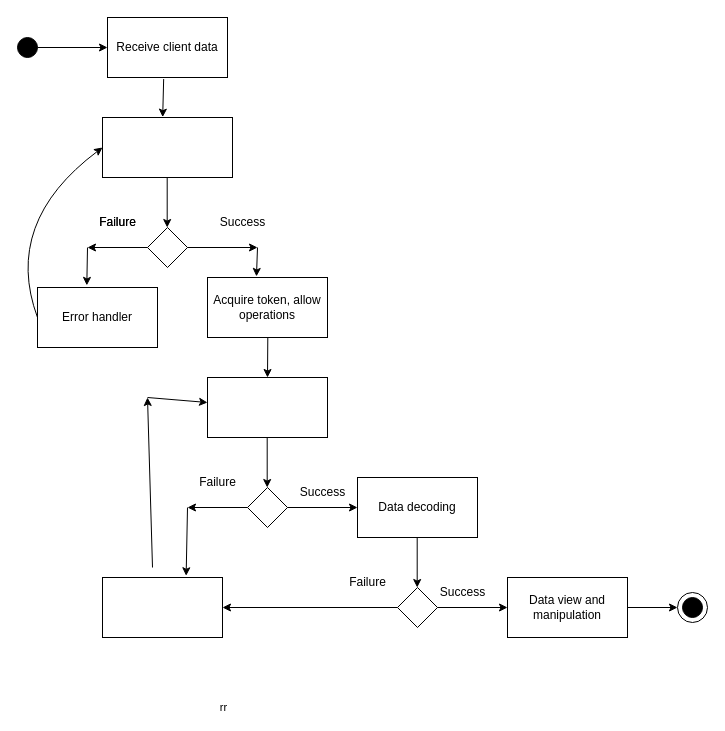
Some shapes in this 725 by 731 pixel diagram are drawn without their labels. Each missing label, with the box of its shape:
Handler: (102, 576, 222, 638)
Operation selection: (206, 376, 328, 438)
Validate client: (102, 116, 232, 178)
